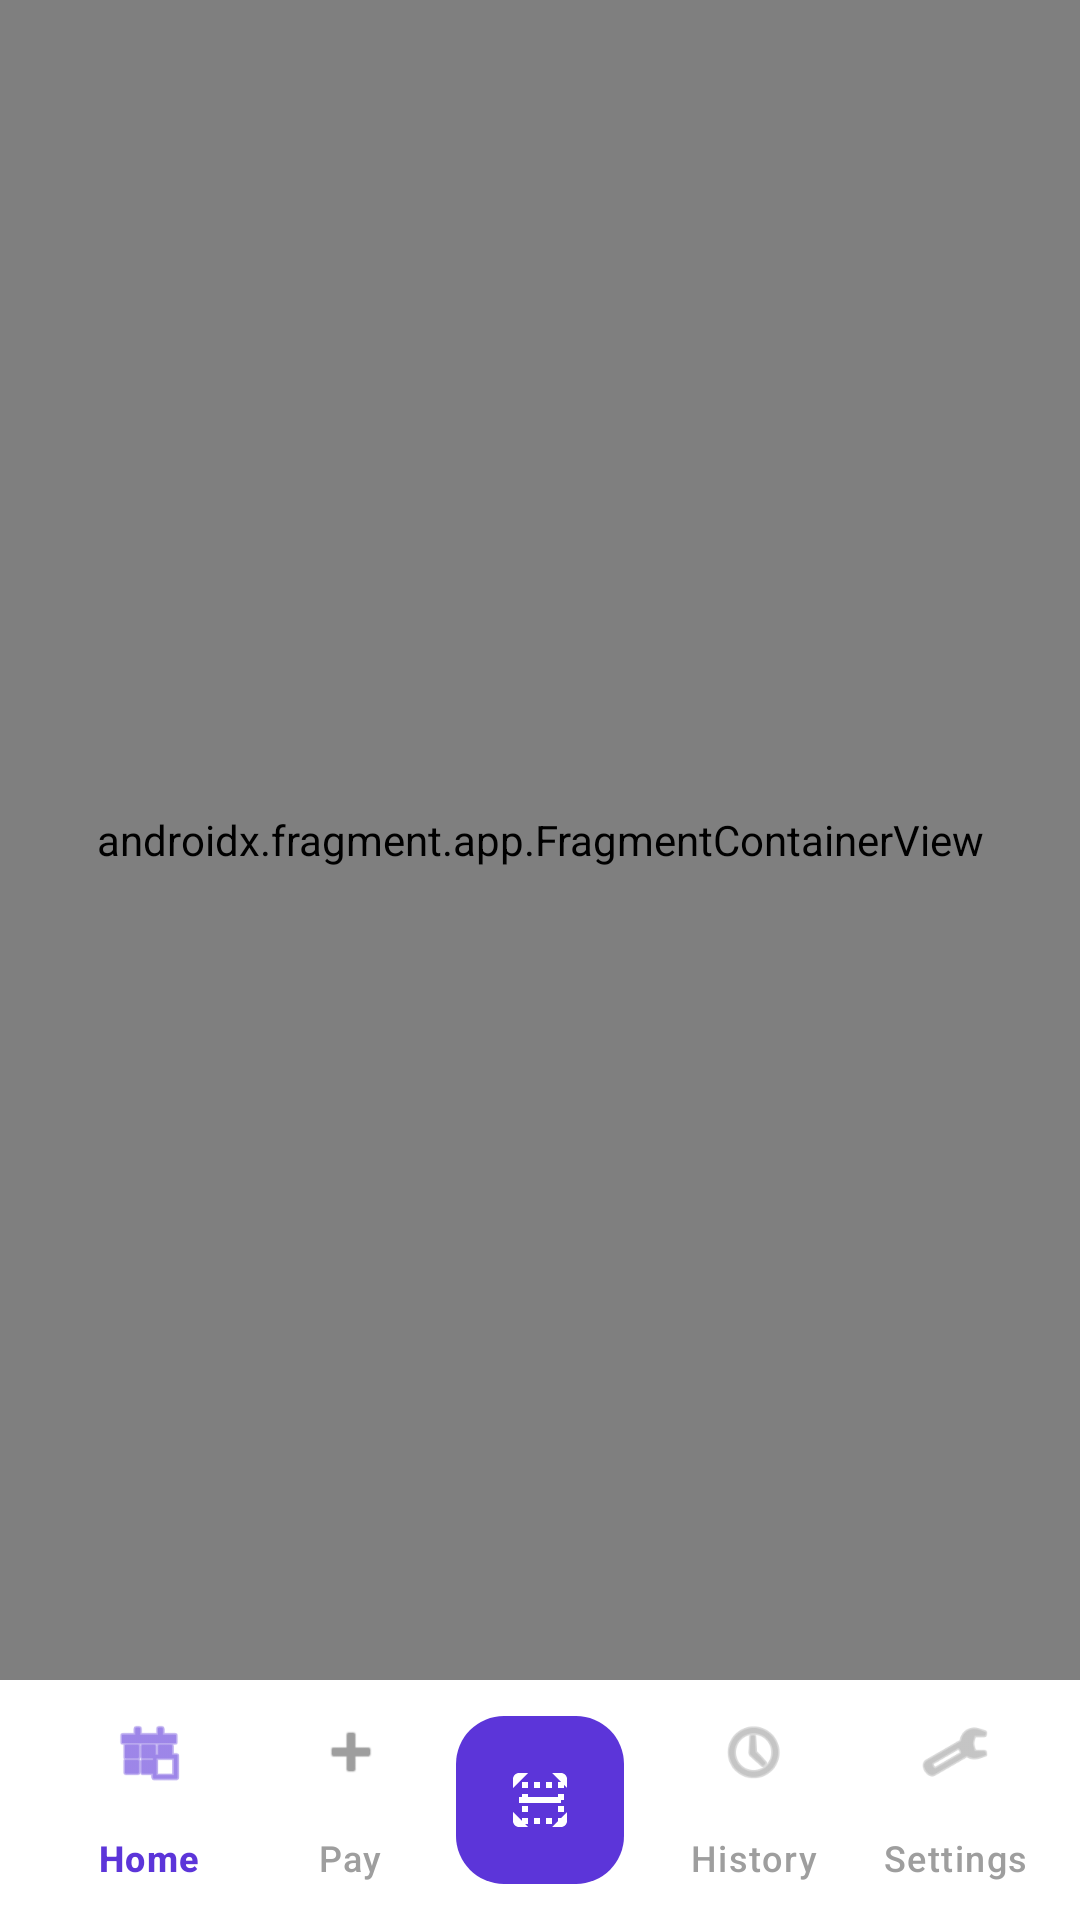

Screen size 1080px×1920px. Icon name, then its box in pixels as (x1, y1, x2, y2):
Scan QR Code: (456, 1752, 624, 1884)
